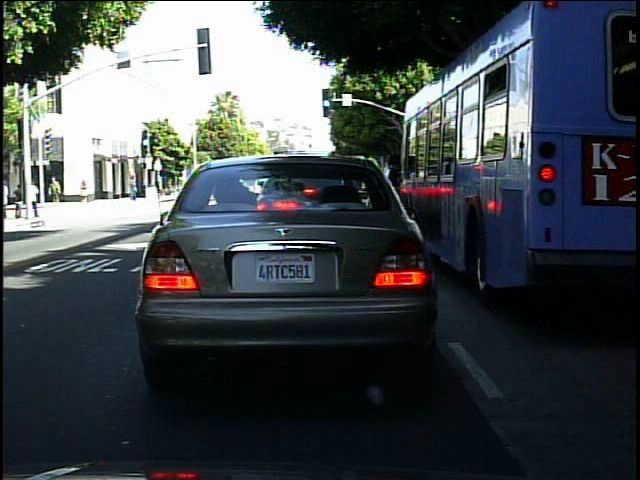person: (76, 171, 94, 209), (48, 173, 67, 206), (125, 170, 143, 204), (30, 174, 43, 218), (12, 179, 25, 221)
